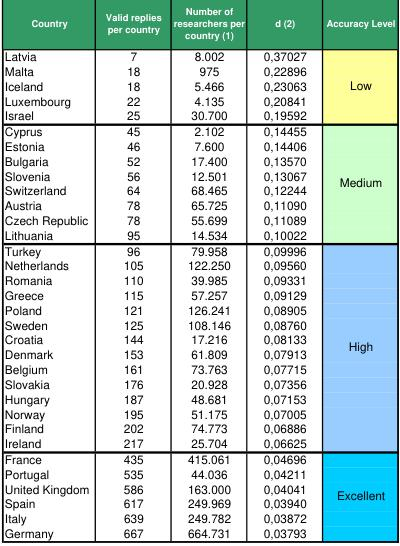table: (3, 3, 394, 540)
table column: (3, 3, 96, 540), (166, 3, 253, 540), (315, 3, 394, 540), (96, 3, 166, 540), (253, 3, 315, 540)
table column header: (3, 3, 394, 44)
table row: (3, 3, 394, 44), (3, 44, 394, 62), (3, 241, 394, 257), (3, 524, 394, 540), (3, 62, 394, 77), (3, 77, 394, 92), (3, 92, 394, 107), (3, 107, 394, 122), (3, 122, 394, 137), (3, 137, 394, 152), (3, 152, 394, 167), (3, 167, 394, 182), (3, 182, 394, 197), (3, 211, 394, 226), (3, 226, 394, 241), (3, 257, 394, 272), (3, 286, 394, 301), (3, 301, 394, 316), (3, 316, 394, 331), (3, 331, 394, 346), (3, 346, 394, 361), (3, 375, 394, 390), (3, 390, 394, 405), (3, 405, 394, 420), (3, 420, 394, 435), (3, 435, 394, 450), (3, 450, 394, 465), (3, 465, 394, 480), (3, 480, 394, 495), (3, 495, 394, 510), (3, 197, 394, 211), (3, 272, 394, 286), (3, 361, 394, 375), (3, 510, 394, 524)
table spanning cell: (315, 241, 394, 450), (315, 122, 394, 241), (315, 450, 394, 540), (315, 44, 394, 122)
